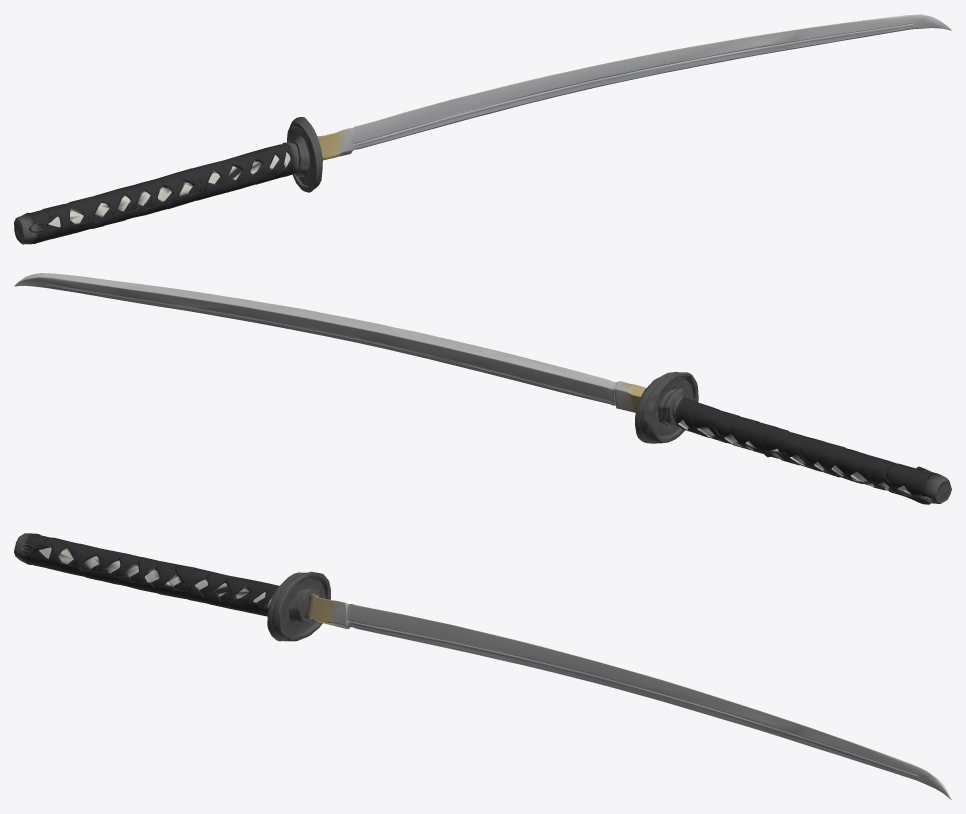
File: katana_2h.glb
3 renders of one model, top to bottom at view 1: azimuth 30°, elevation 25°; view 2: azimuth 150°, elevation 25°; view 3: azimuth 330°, elevation 25°, orthographic.
Parts seen in each view (by area): view 1: _MeshInstance3D_25; view 2: _MeshInstance3D_25; view 3: _MeshInstance3D_25.
Boxes of the visible parts, <box> form: _MeshInstance3D_25: <box>14,14,951,244</box>; _MeshInstance3D_25: <box>14,273,951,504</box>; _MeshInstance3D_25: <box>14,533,951,799</box>.
Size of the model in its own units: 1.91 by 0.1331 by 0.1562.
